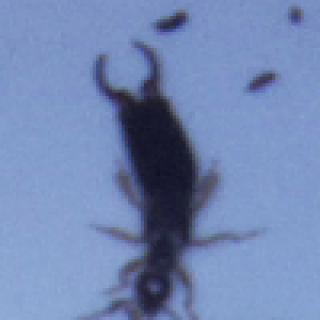earwig: (87, 39, 268, 320)
